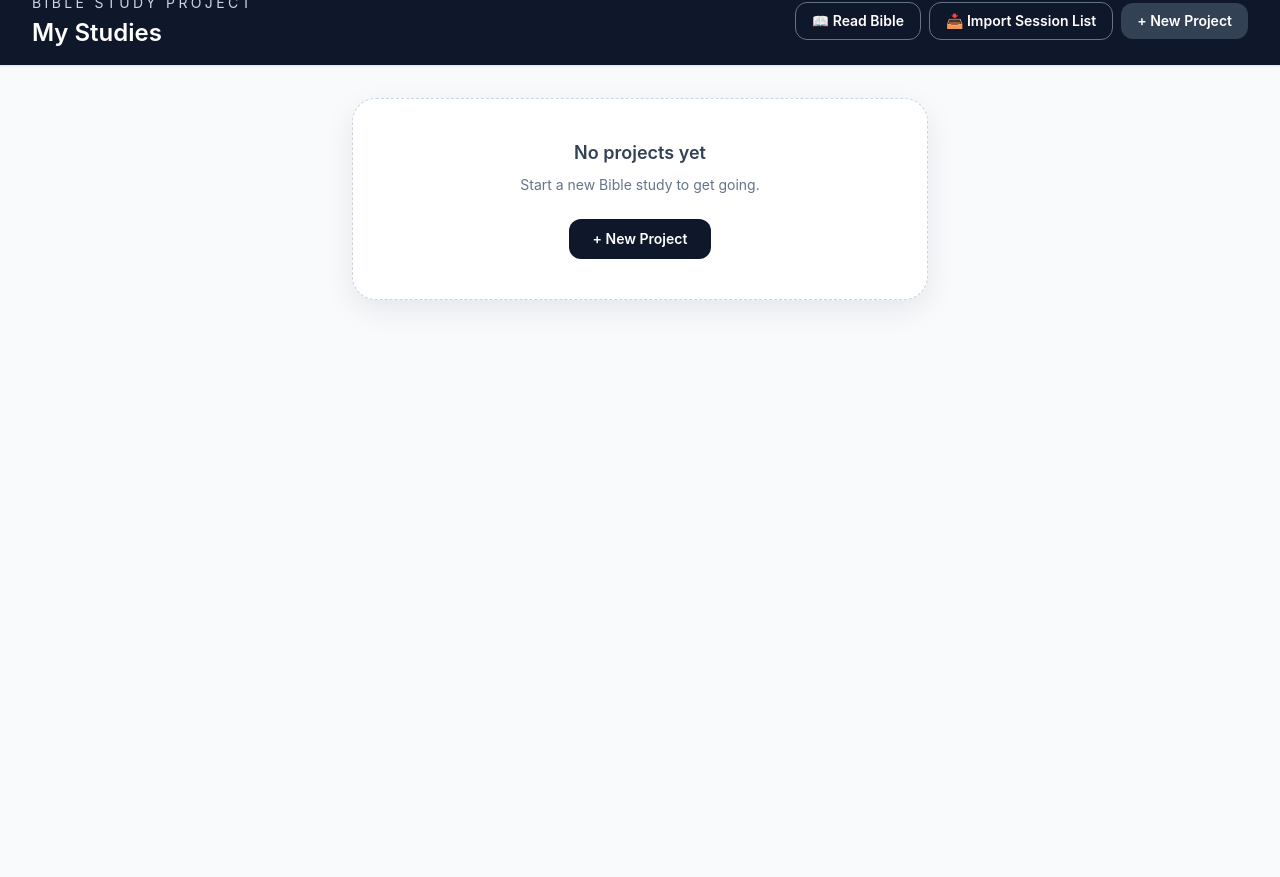
Test: Chunk management › "Begin Studying" is enabled once a chunk exists
Click the button "+ New Project" in the row of "Bible Study Project" at (1185, 21), box [1121,3,1248,39]
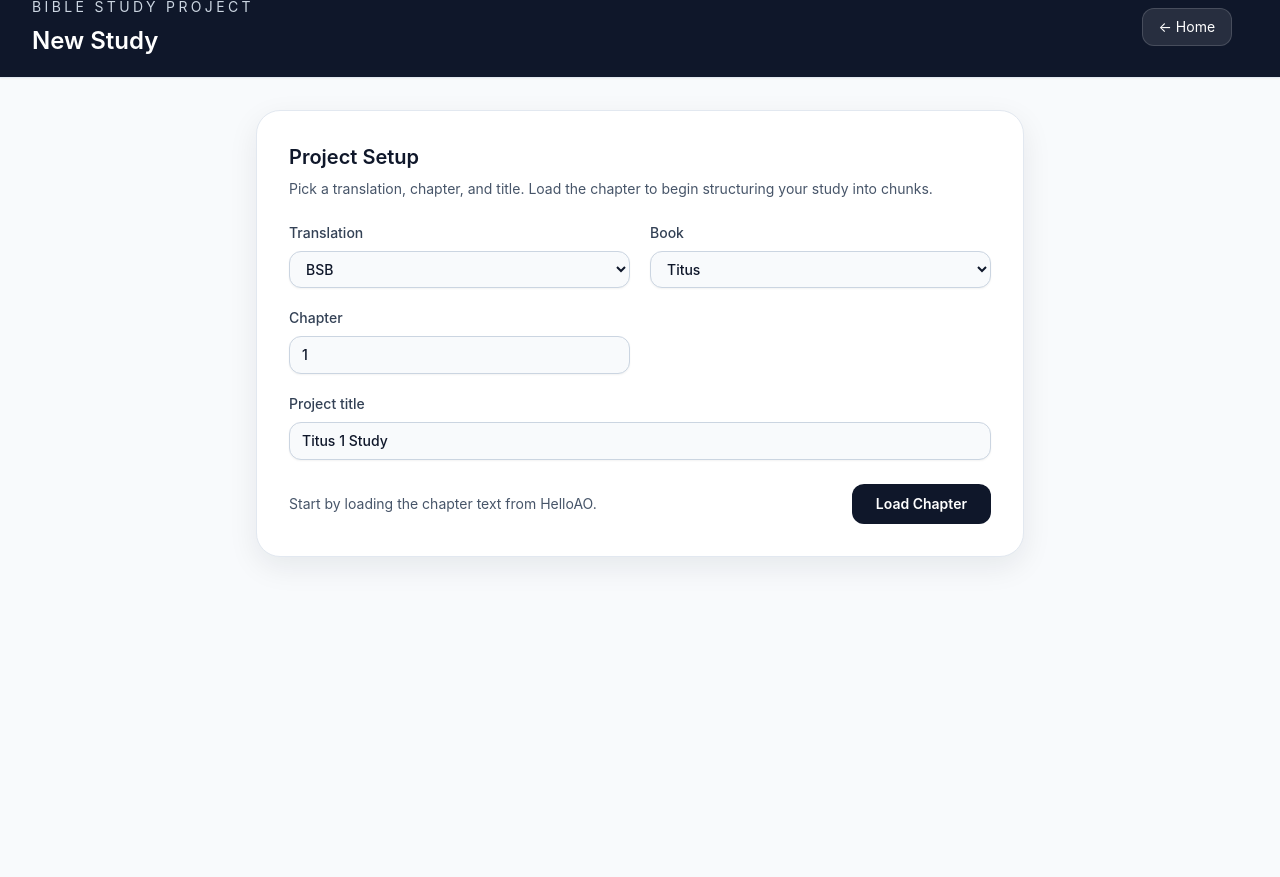
Click the button "Load Chapter" at (921, 504), box [852,484,991,524]
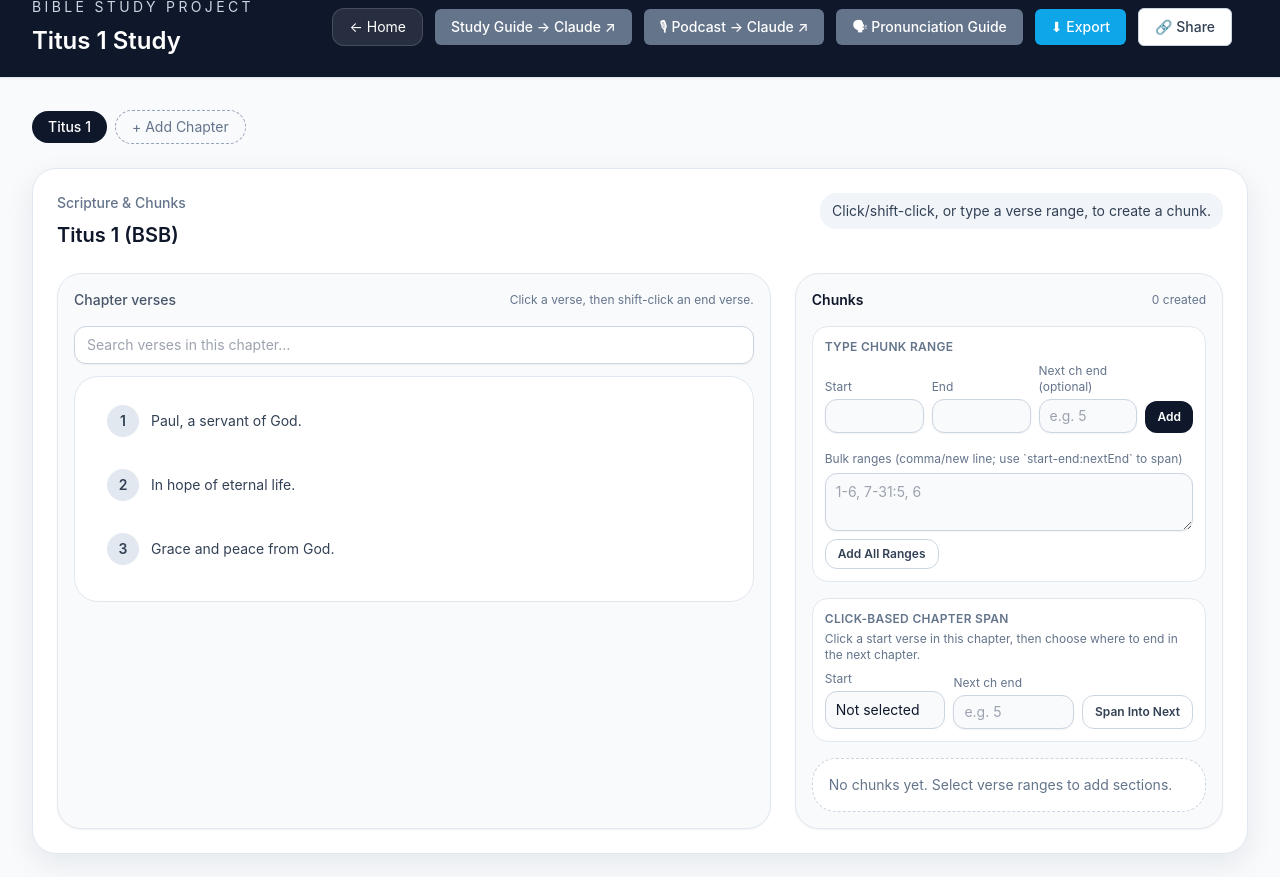
Expected: the text "Scripture & Chunks" is shown, [57,193,186,213]
Click the button "1 Paul, a servant of God." at (123, 421), box [91,393,737,449]
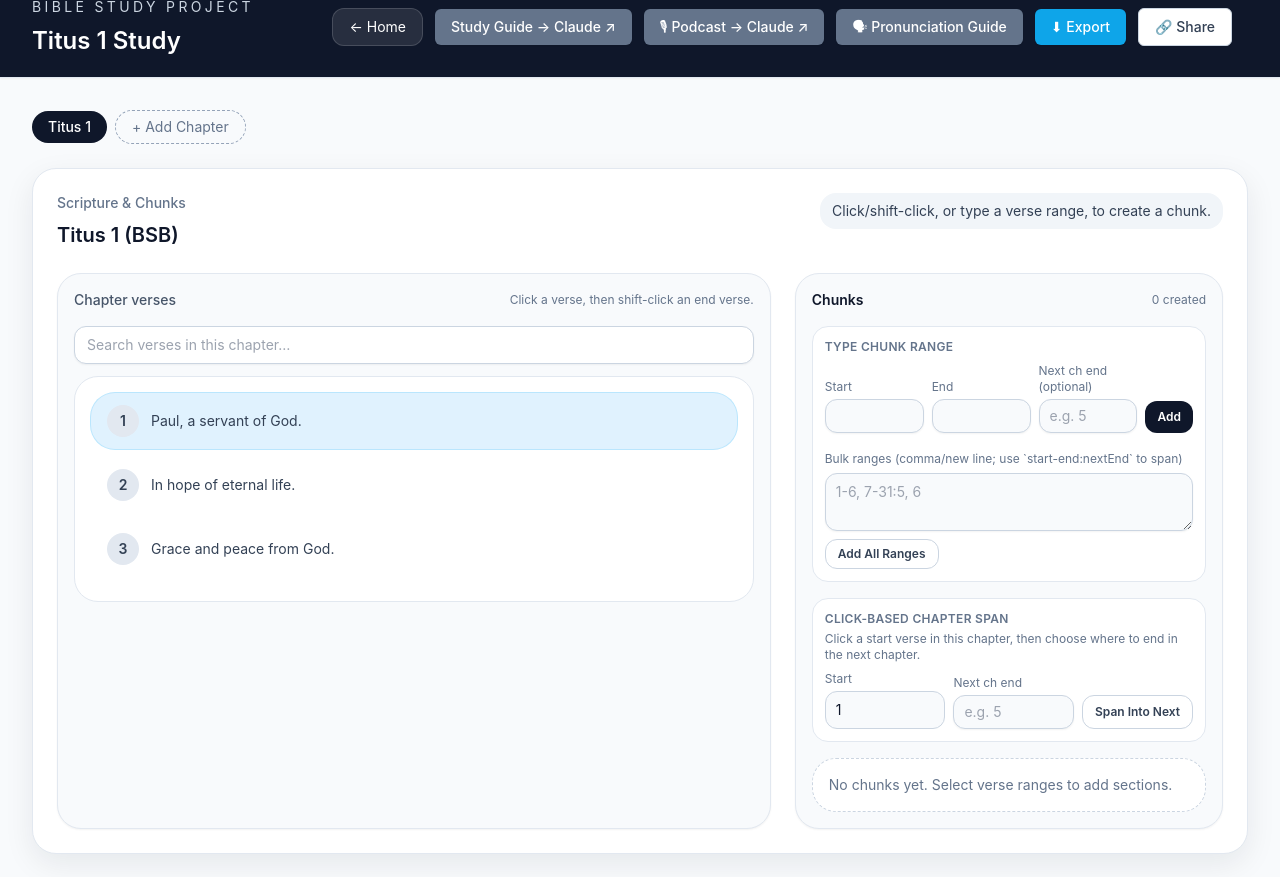
Click the button "2 In hope of eternal life." at (123, 485), box [91,457,737,513]
(page scrolled)
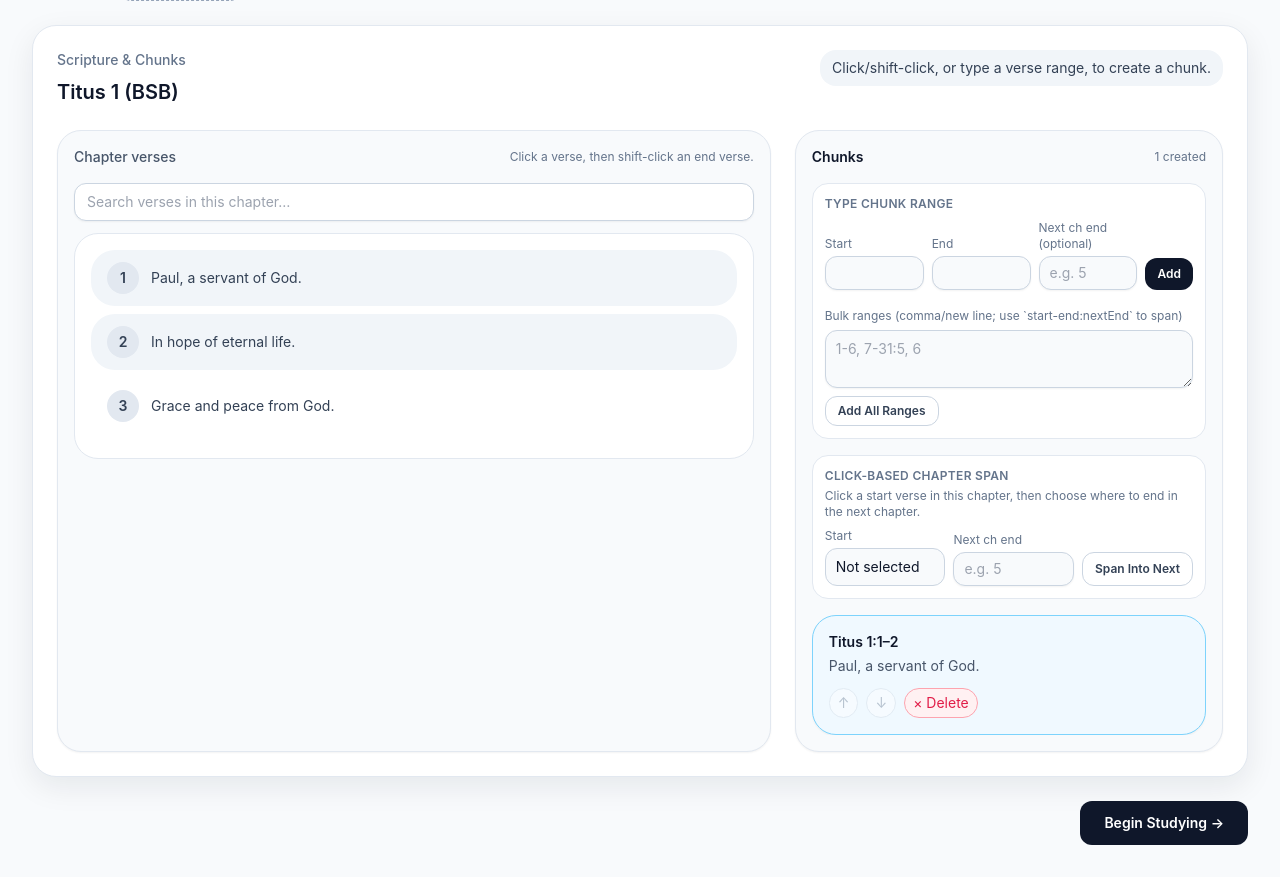
Expected: the text "1 created" is shown, [1154,149,1206,165]
Expected: the button "Begin Studying →" is enabled, [1080,801,1248,845]
